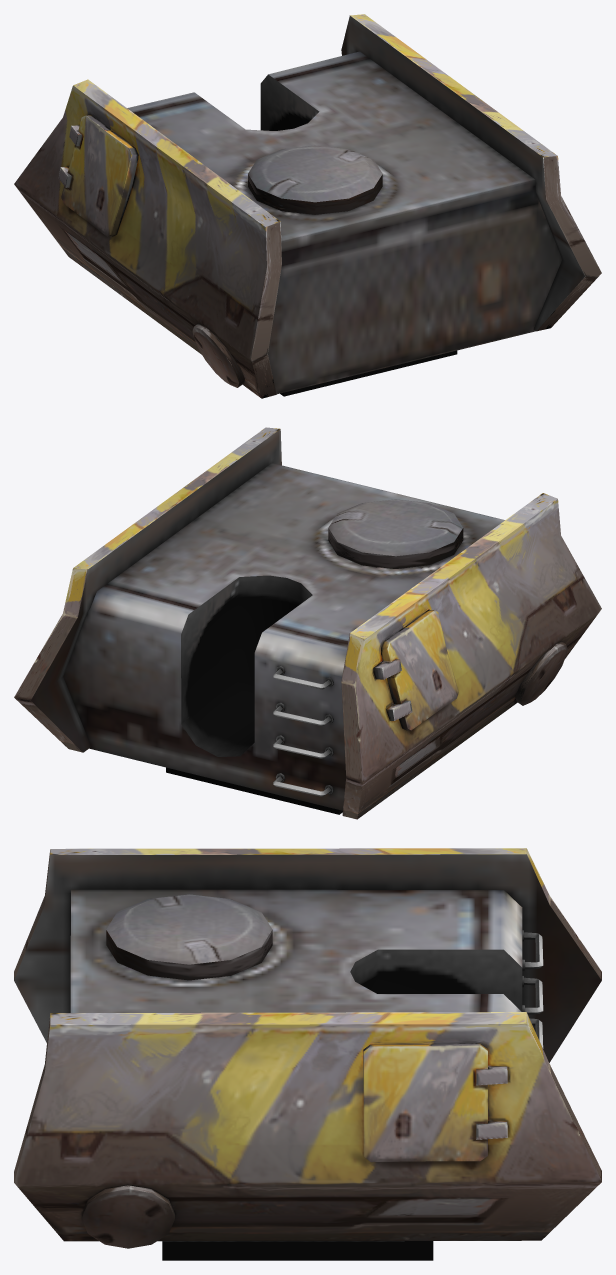
Rendered from lv5paoshen_da.FBX.
3 renders of one model, top to bottom at view 1: azimuth 30°, elevation 25°; view 2: azimuth 150°, elevation 25°; view 3: azimuth 270°, elevation 25°, orthographic. The views are drawn at different scales.
Parts seen in each view (by area): view 1: lv5jianshoupao002; view 2: lv5jianshoupao002; view 3: lv5jianshoupao002.
Part boxes in pixels (left/top/right/bottom): lv5jianshoupao002: left=14, top=14, right=601, bottom=398; lv5jianshoupao002: left=14, top=427, right=601, bottom=819; lv5jianshoupao002: left=14, top=848, right=601, bottom=1260.
Bounding box in the file's own units: 7.5 × 4.45 × 8.7.
